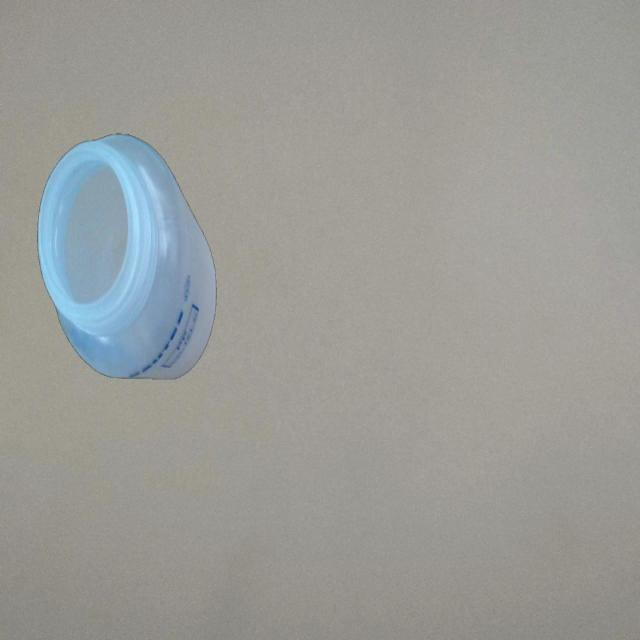bottle: (37, 130, 219, 382)
